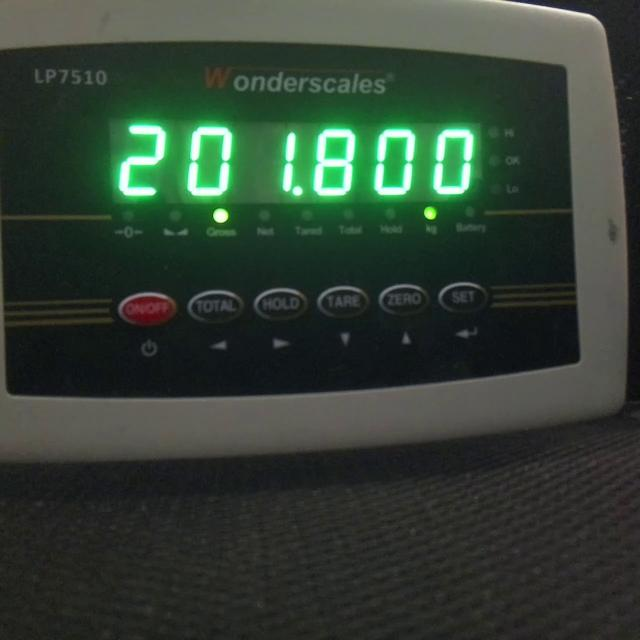.: (292, 185, 303, 196)
0: (188, 125, 233, 195), (374, 128, 416, 195), (433, 128, 474, 194)
1: (284, 129, 296, 196)
2: (118, 123, 166, 197)
8: (312, 119, 356, 204)
